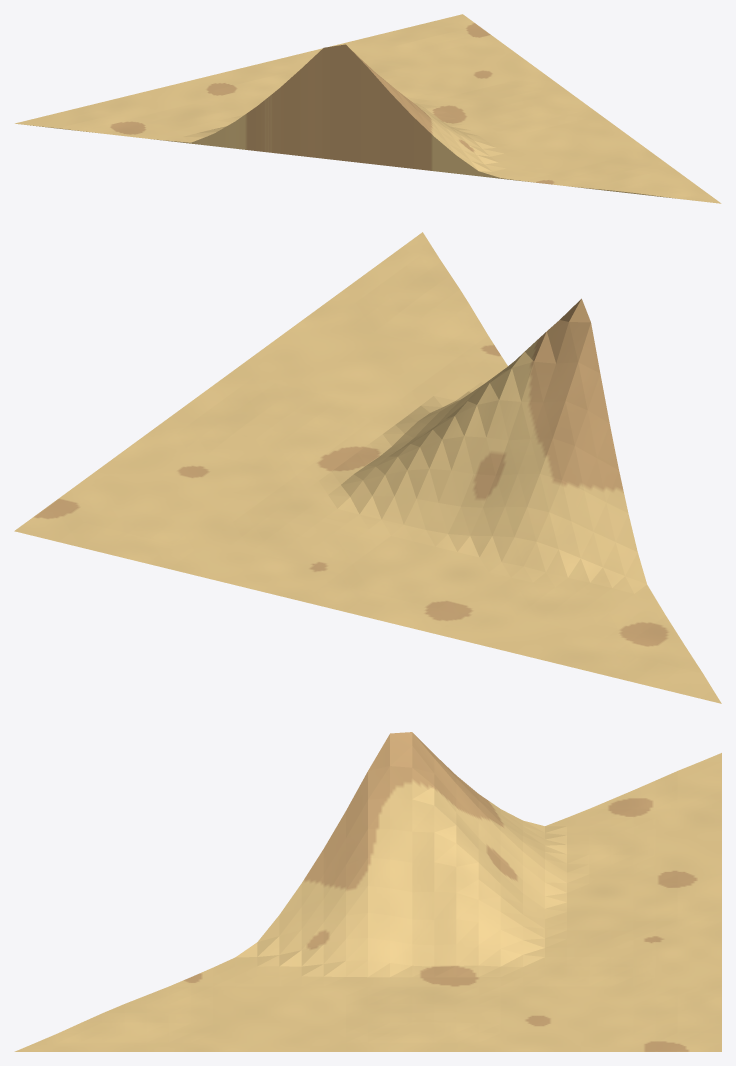
The model's file is Desert_Mountains_01_SE.obj.
3 renders of one model, top to bottom at view 1: azimuth 30°, elevation 25°; view 2: azimuth 150°, elevation 25°; view 3: azimuth 270°, elevation 25°, orthographic. The views are drawn at different scales.
Bounding box in the file's own units: 10 × 2.49 × 10.
Materials: 1 (1 with a texture image).
